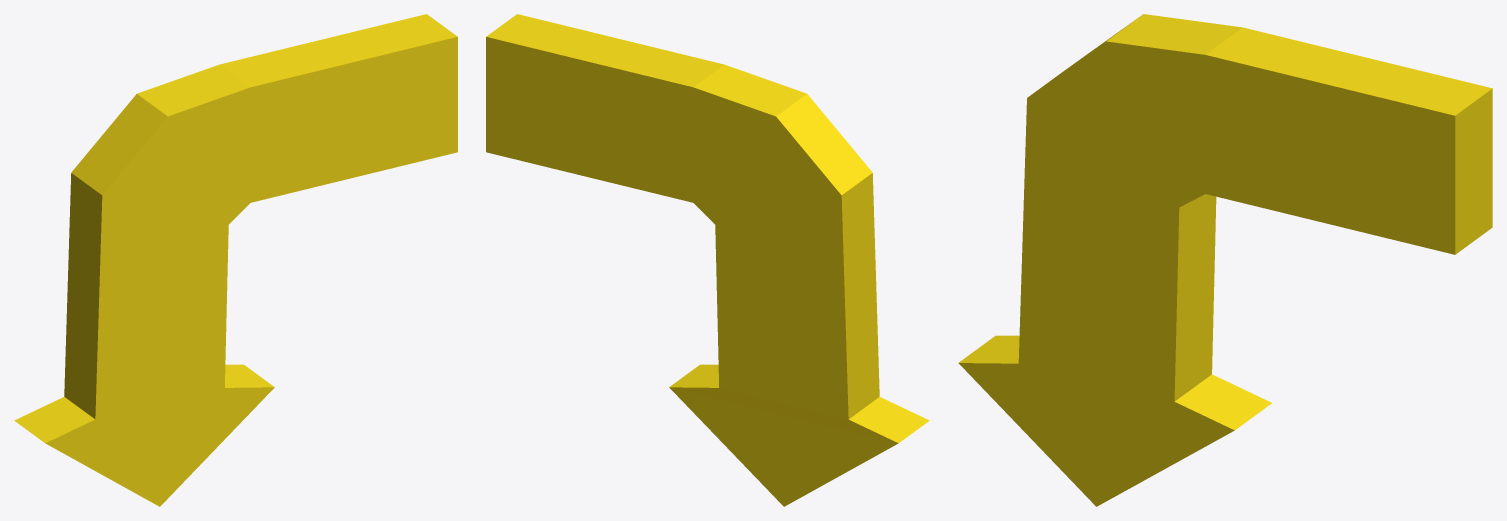
Rendered from Arrowpoint.fbx.
3 renders of one model, left to right at view 1: azimuth 30°, elevation 25°; view 2: azimuth 150°, elevation 25°; view 3: azimuth 330°, elevation 25°, orthographic. The views are drawn at different scales.
Parts seen in each view (by area): view 1: Plane.002; view 2: Plane.002; view 3: Plane.002.
Boxes of the visible parts, x1,y1,x2,y2 form: Plane.002: (14,14,457,506); Plane.002: (486,14,929,506); Plane.002: (958,14,1492,506).
Size of the model in its own units: 99.5 by 91.6 by 13.
